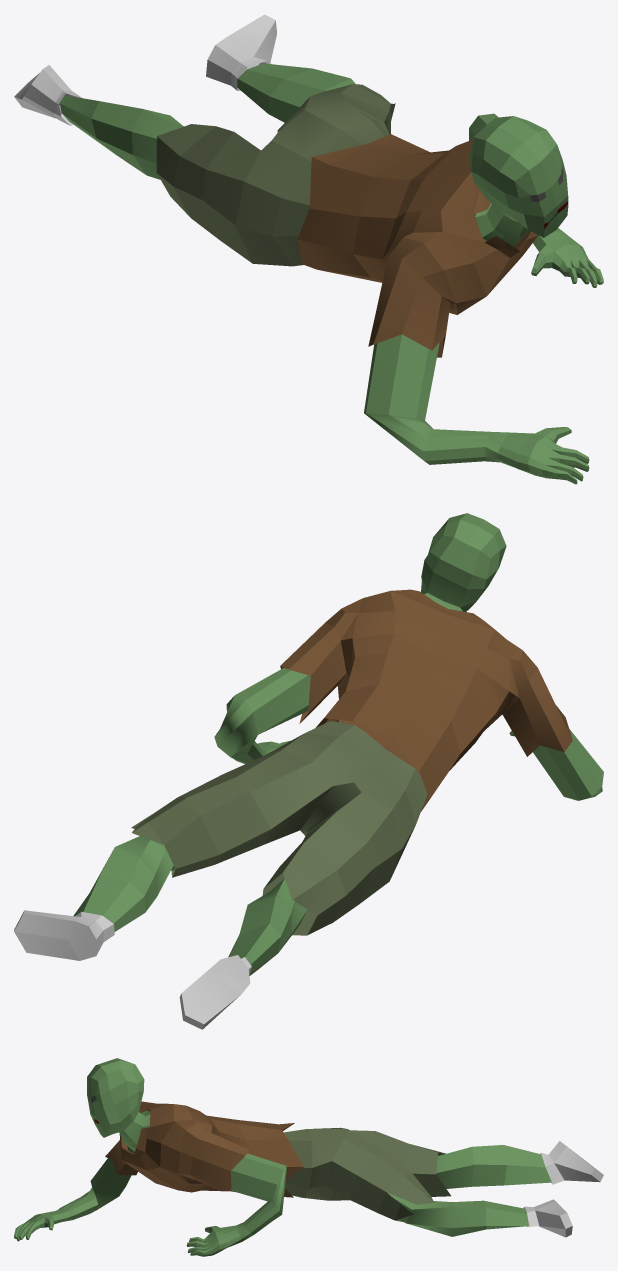
File: ZombieCrawl(96).obj
3 views of the same model, one above another, from view 1: azimuth 30°, elevation 25°; view 2: azimuth 150°, elevation 25°; view 3: azimuth 270°, elevation 25° (orthographic). The views are drawn at different scales.
Visible parts, largest first — view 1: Object001; view 2: Object001; view 3: Object001.
Part boxes in pixels (left/top/right/bottom): Object001: left=14, top=14, right=603, bottom=484; Object001: left=14, top=513, right=603, bottom=1029; Object001: left=14, top=1058, right=603, bottom=1256.
Size of the model in its own units: 24.43 by 23.22 by 66.9.
